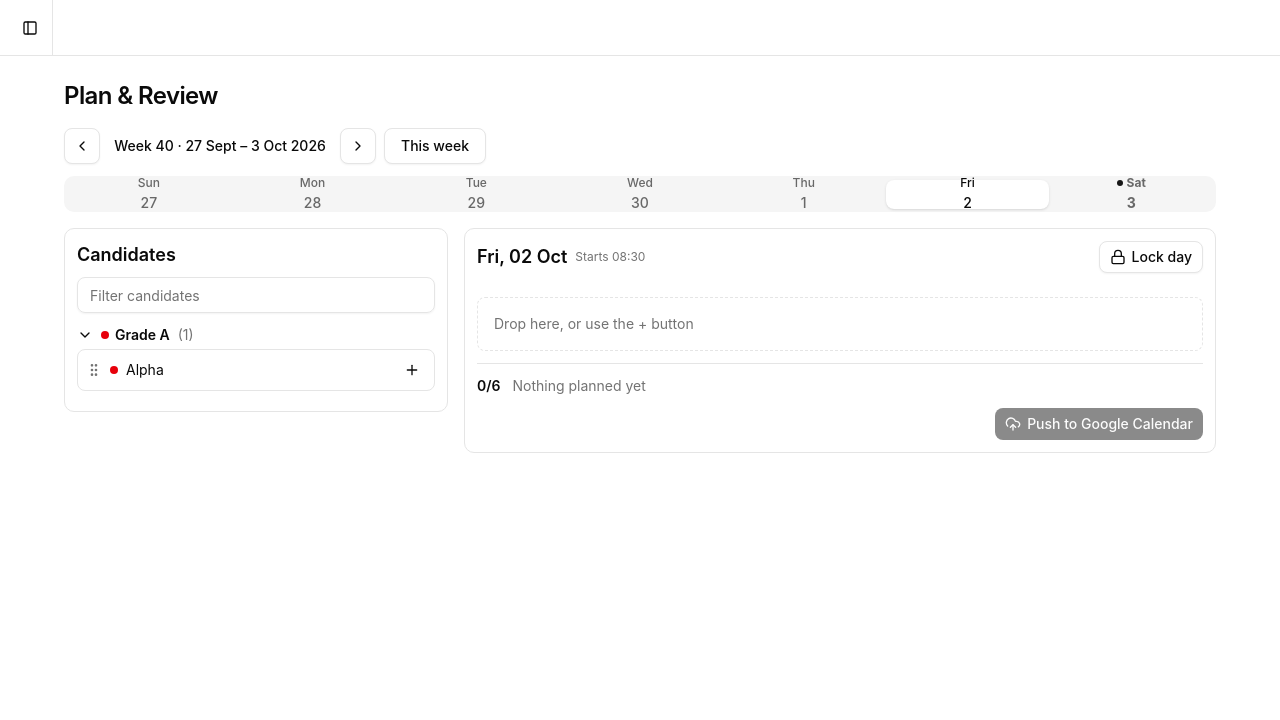
Plan & Review: building the day › adds with an estimate prompt prefilled with the default, then stacks from day start
Click the button named "Add “Alpha” to the plan": (412, 370) x1=398 y1=356 x2=426 y2=384
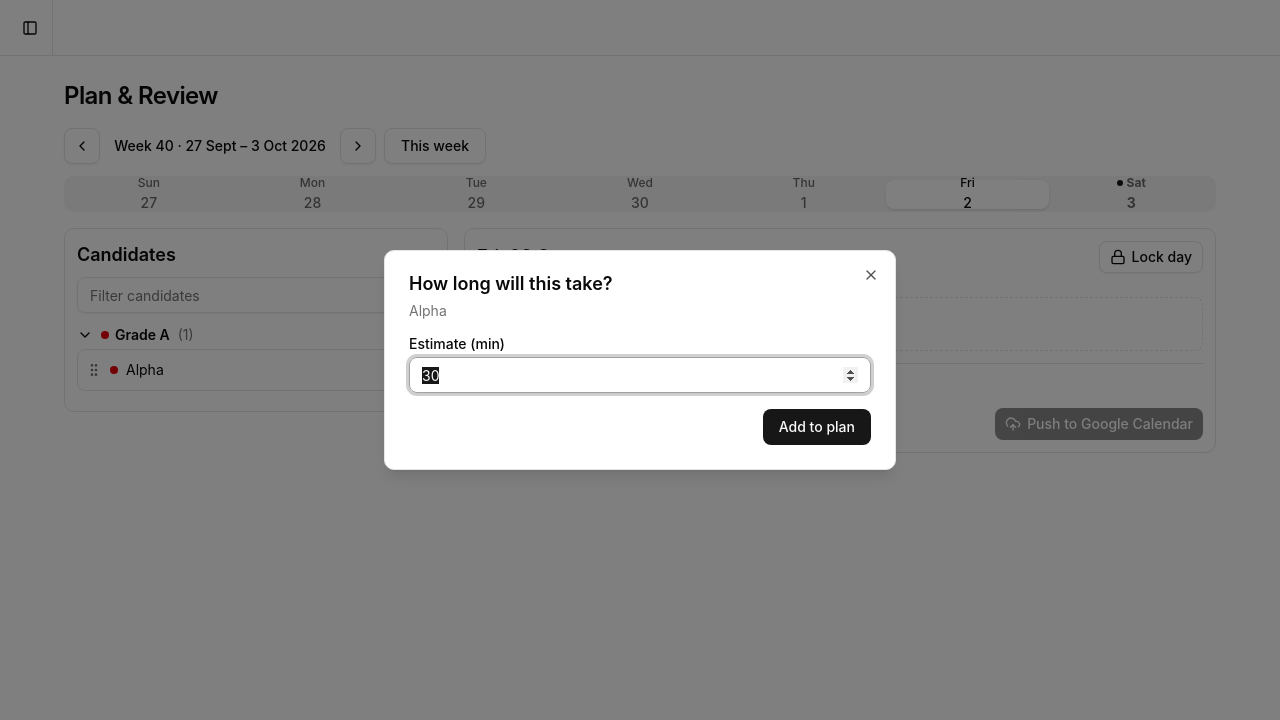
Expected: the number field labelled "Estimate (min)" holds "30"
Replace the text in the number field labelled "Estimate (min)" with "45": (640, 375) x1=409 y1=357 x2=871 y2=393
Then press Enter
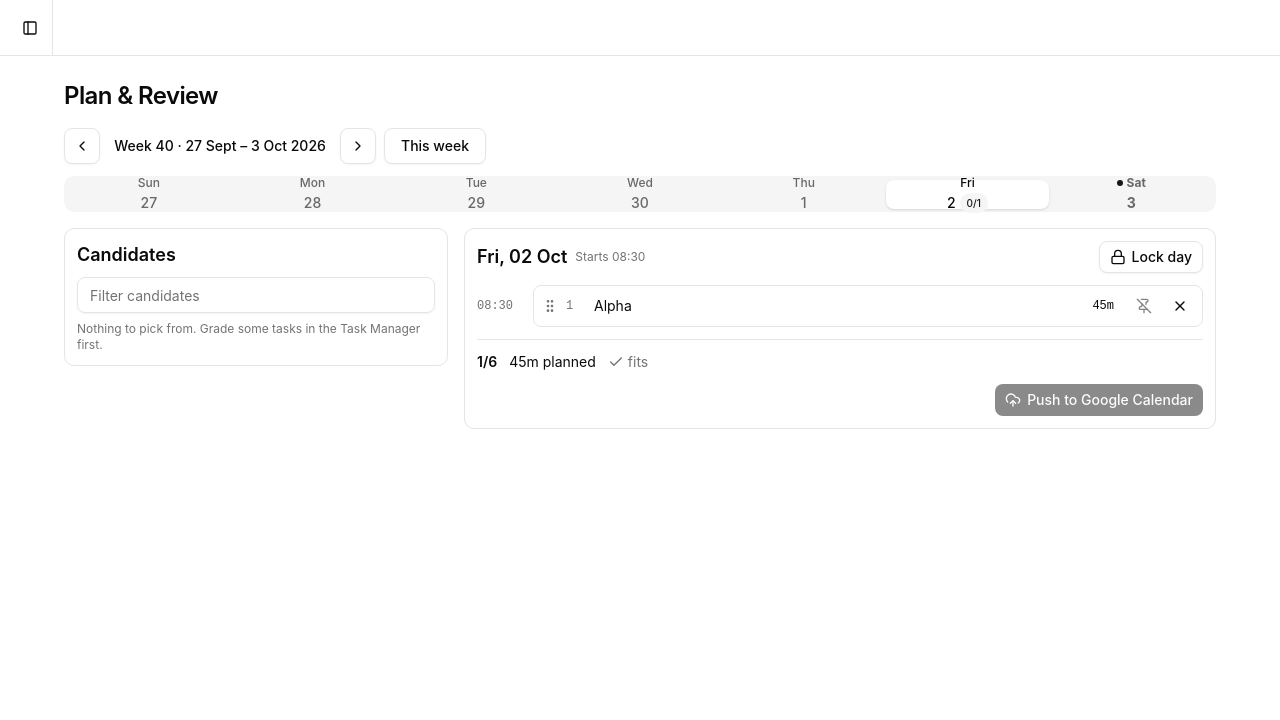
Expected: the element with test id "plan-block" shows "Alpha", x1=594 y1=296 x2=1076 y2=316
Expected: the list item with test id "timeline-block" shows "08:30", x1=477 y1=299 x2=513 y2=313
Expected: the element with test id "capacity-footer" shows "1/6", x1=477 y1=353 x2=497 y2=370
